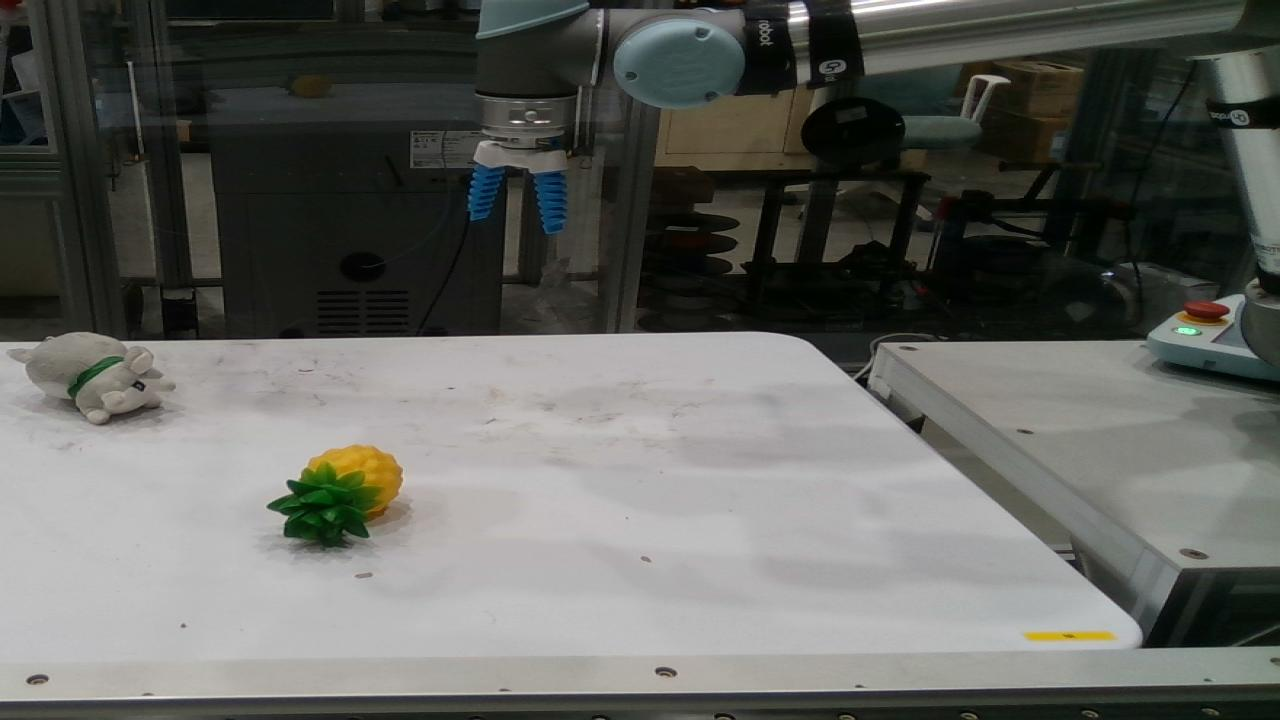UR5: (474, 0, 1279, 370)
gripper_left: (470, 163, 505, 219)
gripper_right: (533, 171, 565, 234)
target: (7, 332, 177, 425), (265, 444, 405, 547)
